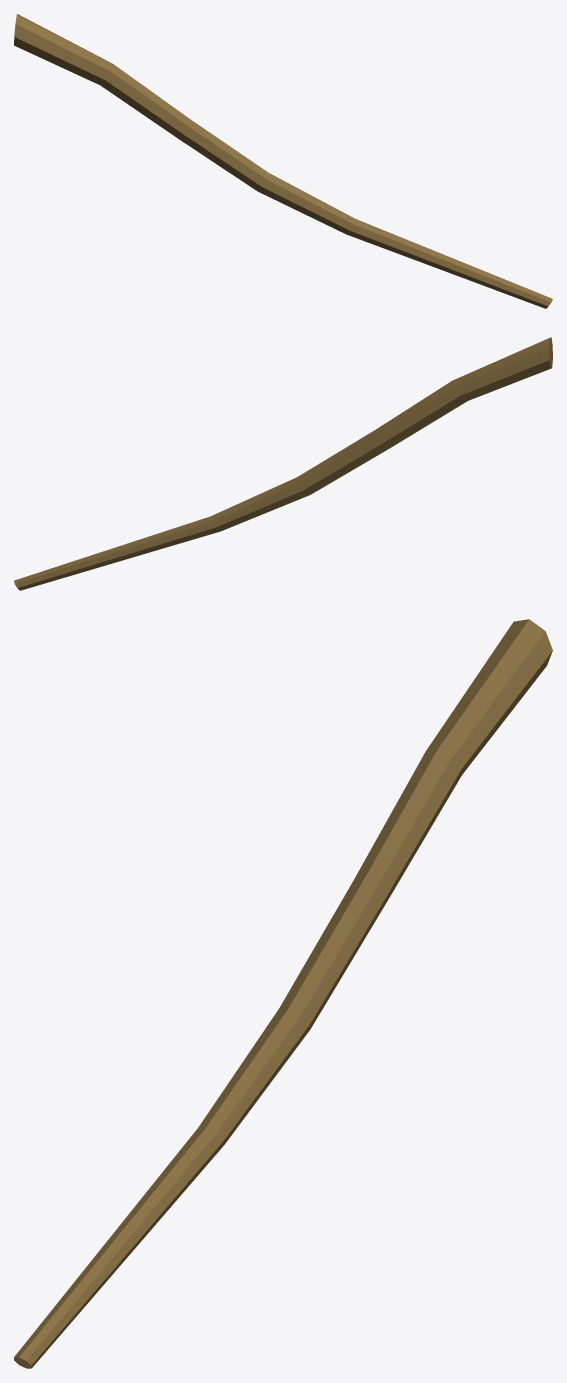
The model's file is Branch12.fbx.
The picture shows the model from 3 angles, top to bottom: view 1: azimuth 30°, elevation 25°; view 2: azimuth 210°, elevation 25°; view 3: azimuth 270°, elevation 25°; orthographic projection. The views are drawn at different scales.
Visible parts, largest first — view 1: Branch12; view 2: Branch12; view 3: Branch12.
Boxes of the visible parts, left/top/right/bottom form: Branch12: left=14, top=14, right=552, bottom=308; Branch12: left=14, top=337, right=552, bottom=590; Branch12: left=14, top=619, right=552, bottom=1368.
Bounding box in the file's own units: 41.05 × 27.39 × 29.82.
